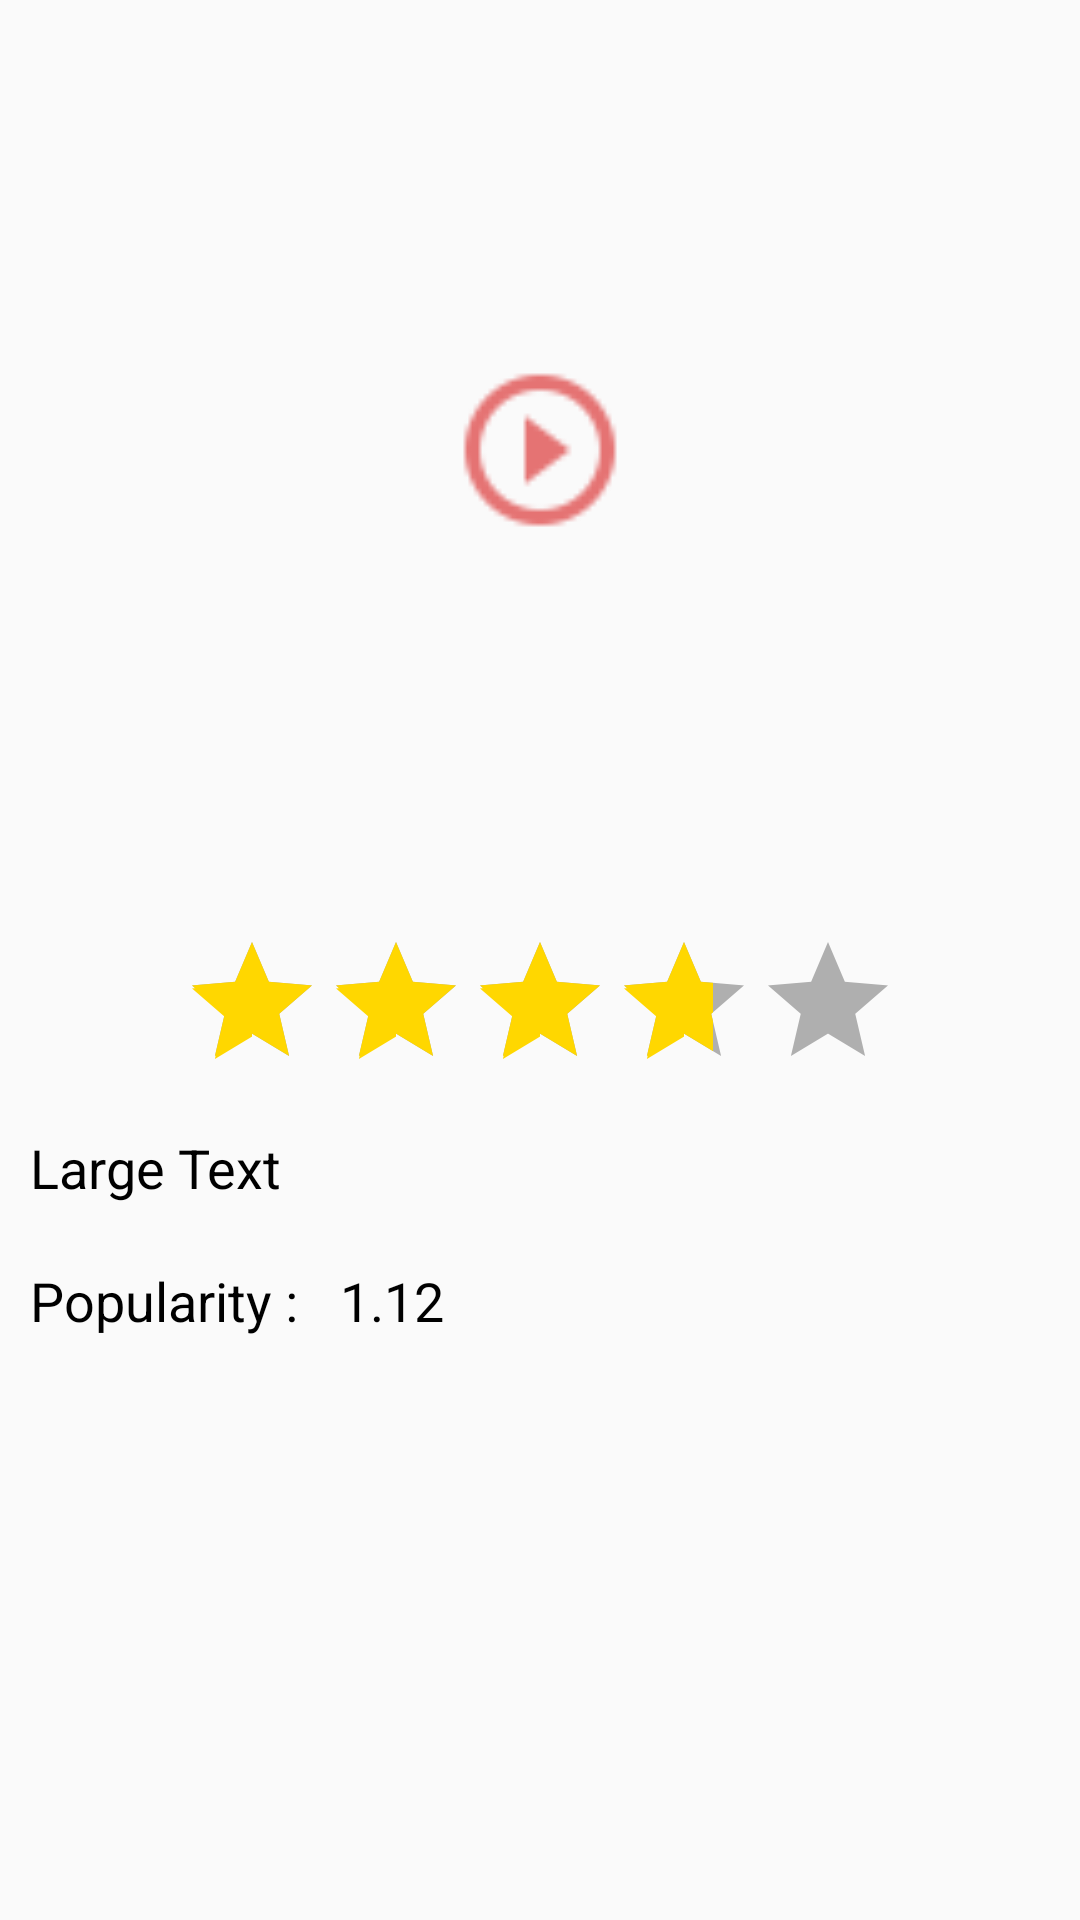

Point at icon controls on the screen. Image size 1080 x 1920, points as (x,y).
play circle: (540,450)
